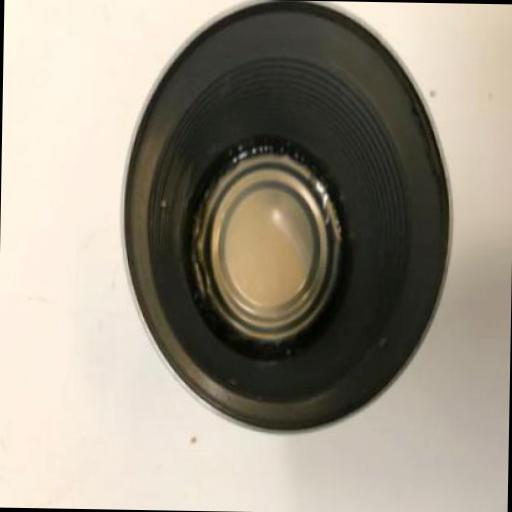metal: (114, 0, 456, 437)
